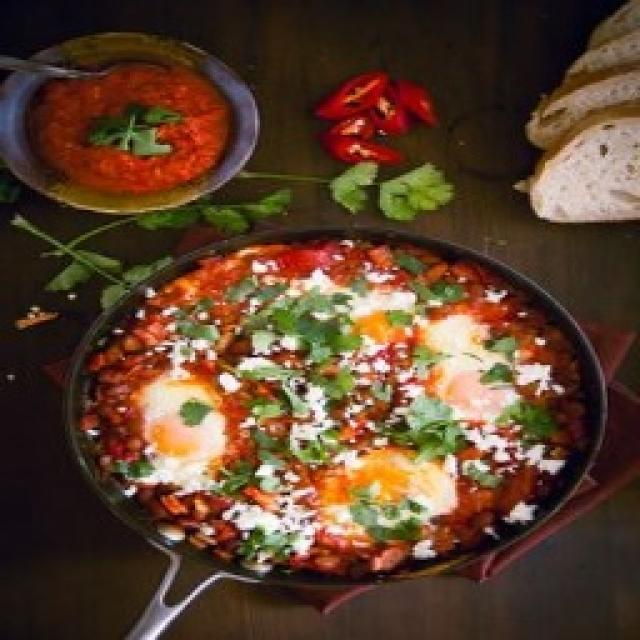Chakchouka: (65, 228, 610, 595)
